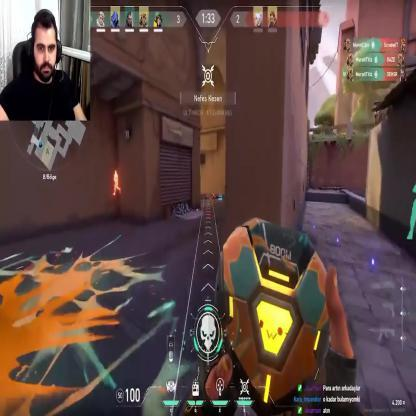enemy: (112, 169, 120, 196)
enemy_head: (115, 170, 116, 176)
